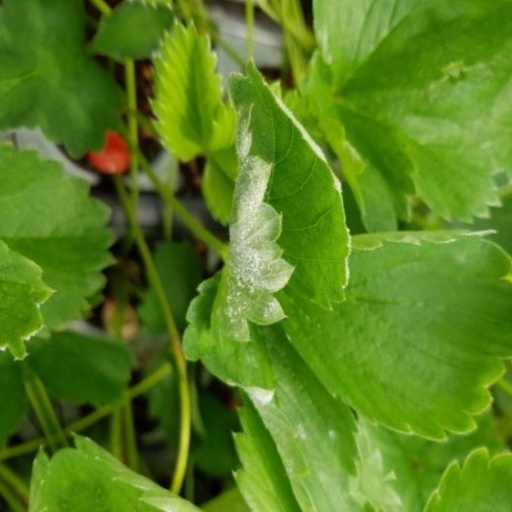Powdery Mildew Leaf: (150, 174, 330, 439), (226, 0, 364, 261)
